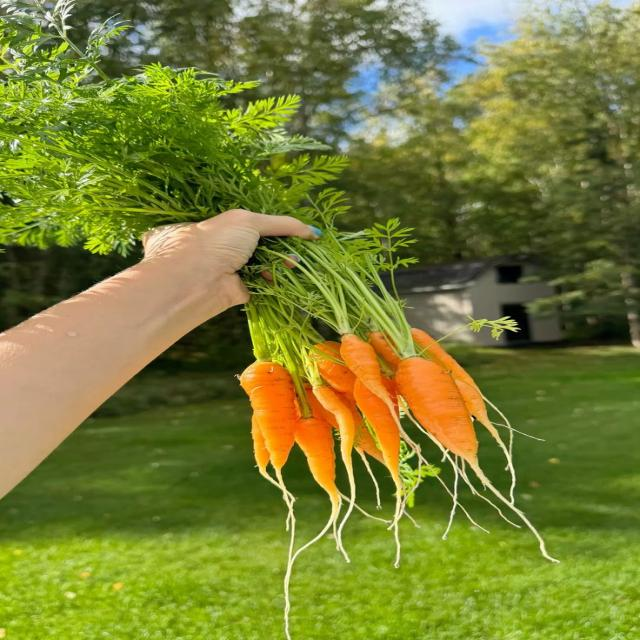carrot: (412, 328, 515, 501), (354, 381, 403, 566), (395, 357, 478, 465), (412, 328, 491, 426), (313, 386, 355, 561), (240, 362, 297, 470), (354, 381, 401, 490), (340, 334, 393, 411), (295, 416, 339, 503), (342, 396, 385, 464), (311, 341, 355, 397), (367, 331, 400, 371), (252, 415, 269, 475)
